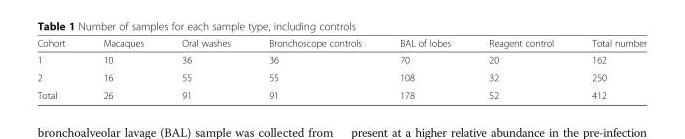table: (36, 37, 646, 100)
table column: (249, 37, 380, 100), (469, 37, 572, 100), (380, 37, 469, 100), (162, 37, 249, 100), (83, 37, 162, 100), (572, 37, 646, 100), (36, 37, 83, 100)
table column header: (36, 37, 646, 51)
table row: (36, 51, 646, 68), (36, 68, 646, 85), (36, 85, 646, 100), (36, 37, 646, 51)
